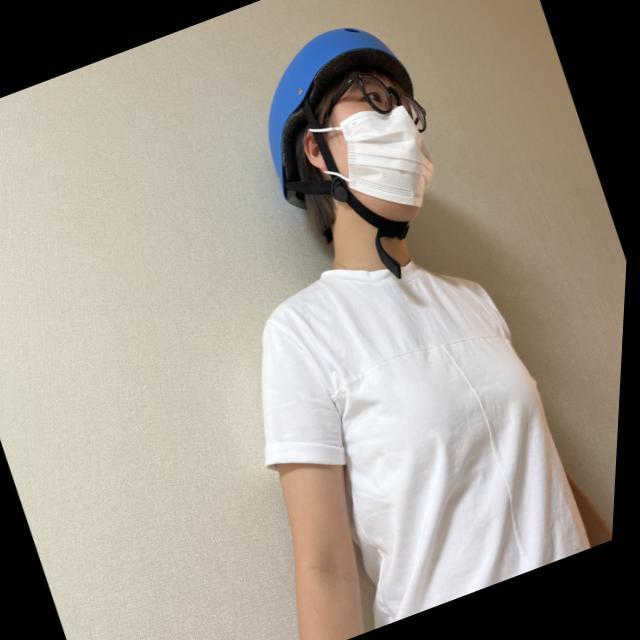Helmet: (256, 14, 445, 252)
